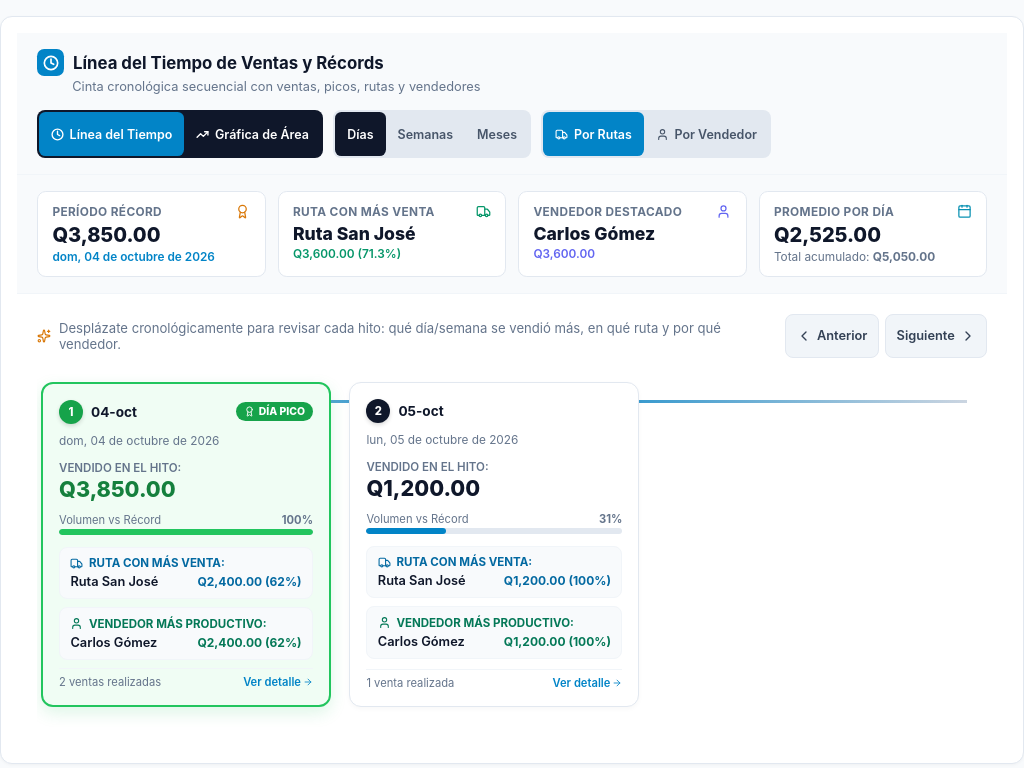
Test: StackedSalesChart - Línea del Tiempo › permite alternar dimensión y escala temporal
This screenshot has width=1024, height=768.
Note: Cambiar a Semanas
Click the button "Semanas" at (425, 134), box [386,112,465,156]
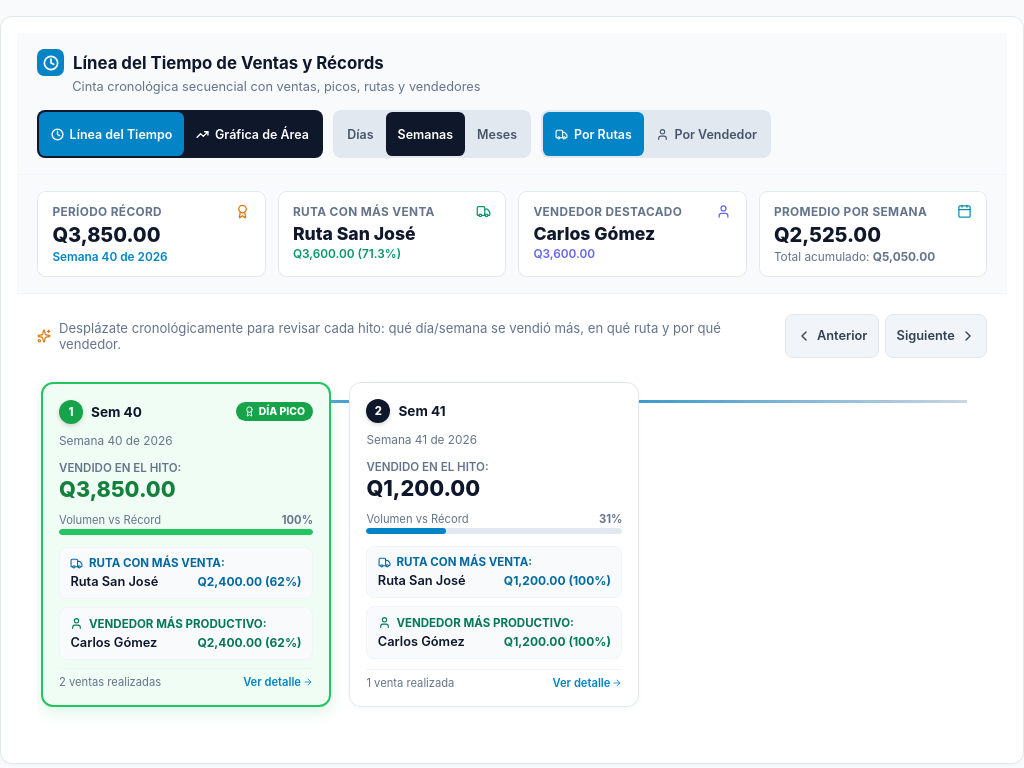
Expected: the text "Promedio por Semana" is shown, [774,205,927,219]
Note: Cambiar dimensión a Por Vendedor
Click the button "Por Vendedor" at (706, 134), box [644,112,769,156]
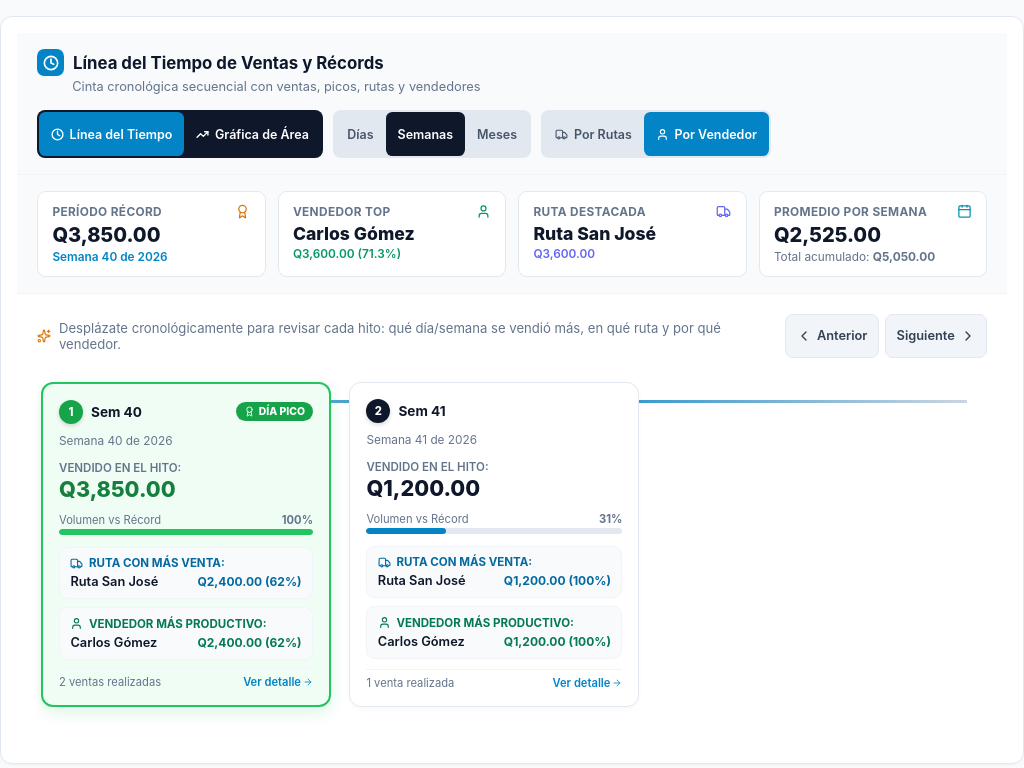
Expected: the text "Vendedor Top" is shown, [293,205,390,219]
